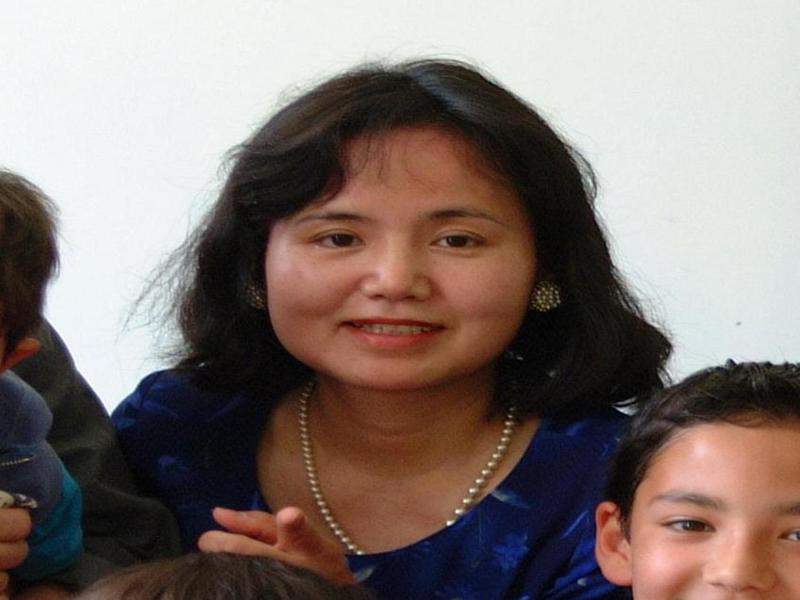person: (117, 58, 621, 600), (598, 357, 793, 600)
